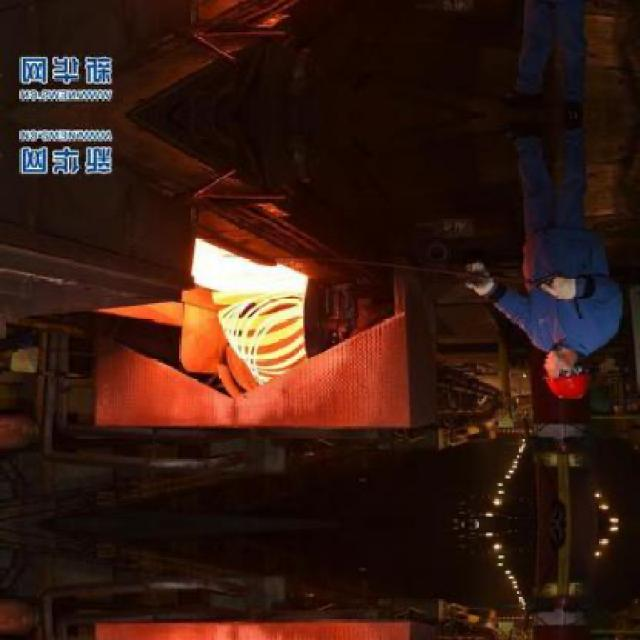con casco: (516, 316, 601, 405)
